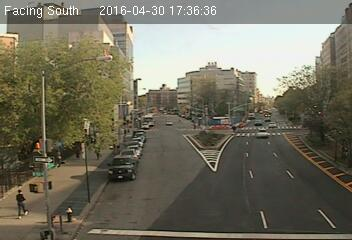neg: (292, 129, 330, 178), (19, 34, 55, 82), (257, 68, 292, 115), (245, 154, 277, 196), (134, 108, 165, 150), (89, 80, 118, 118), (192, 140, 220, 177), (161, 161, 189, 198), (59, 68, 85, 102), (119, 173, 144, 206), (231, 57, 254, 88), (168, 49, 188, 76), (65, 200, 83, 225)
pos: (9, 188, 33, 219), (52, 146, 66, 164)
